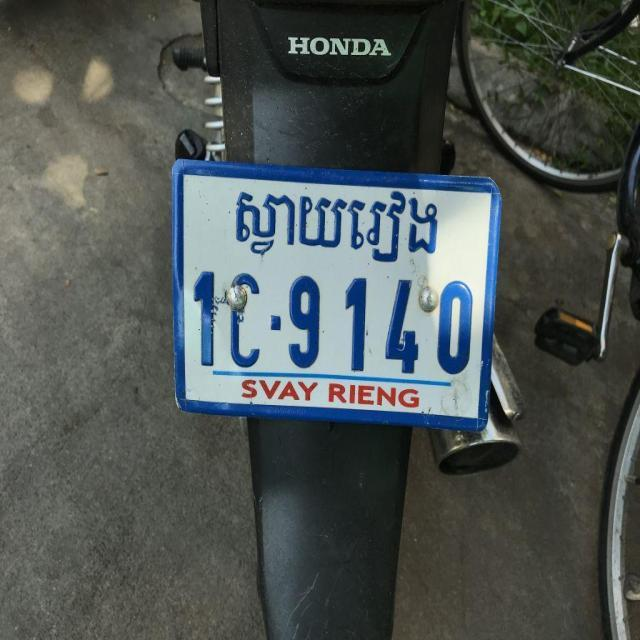Svay_Rieng: (229, 185, 446, 263)
